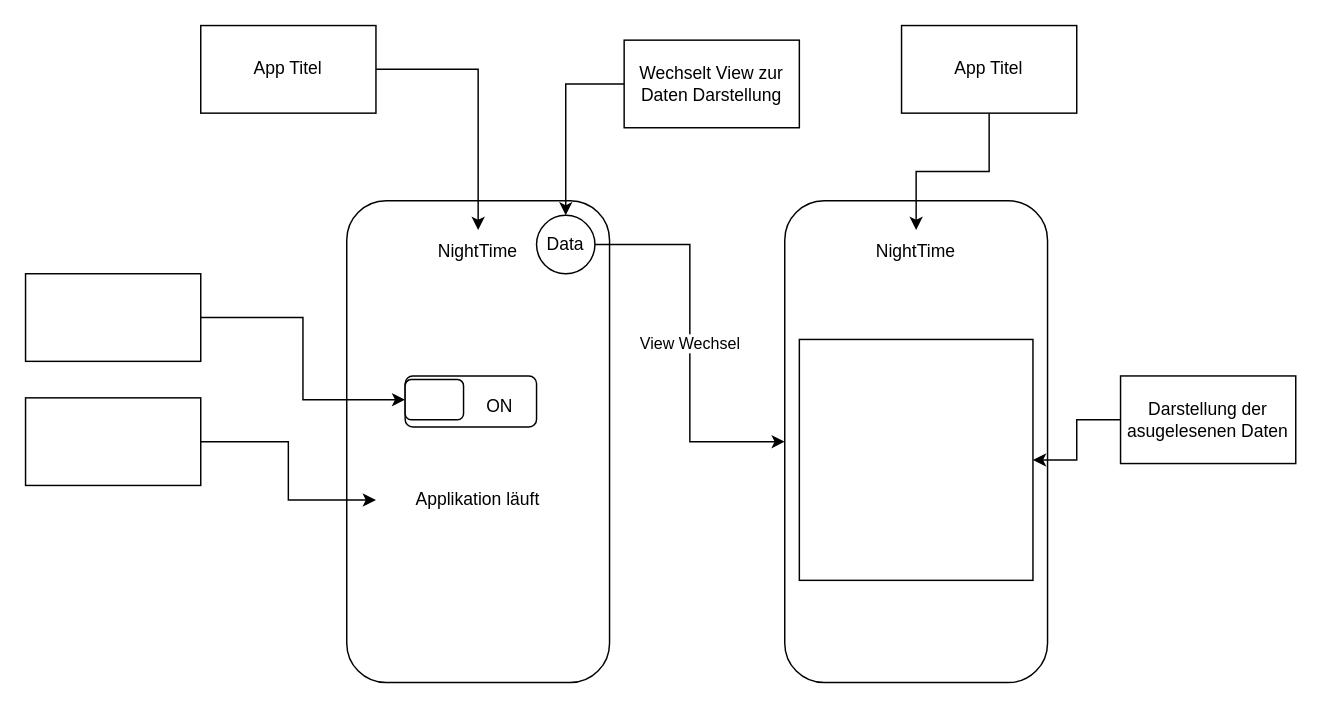
This 1321x708 diagram has some shape labels left out. The centre of each missing label's shape, as x and y in pixels:
"Average Sleep: 4h Average fall asleep time:11:46 Average wake up time: 4:30" goes at point 915,459.
"Starte/Stoppt Applikation" goes at point 112,316.
"Zeigt ob die Applikation gestartet ist" goes at point 112,440.
